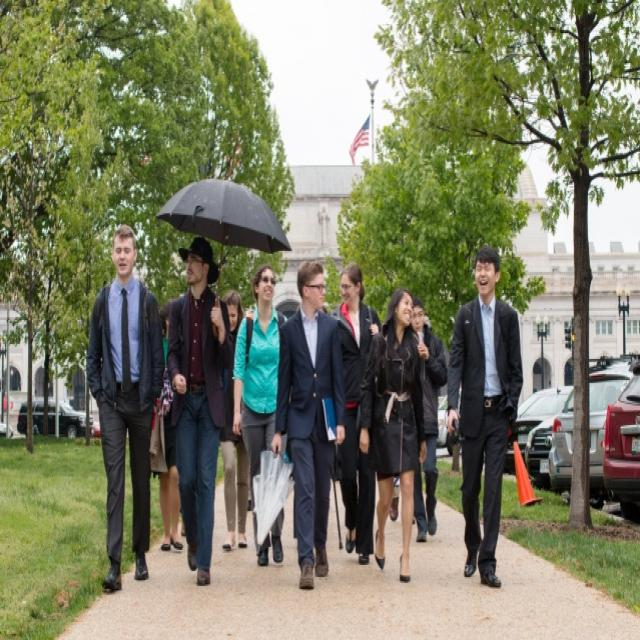body: (81, 216, 165, 592), (443, 240, 523, 586), (162, 227, 236, 589), (270, 258, 346, 589), (356, 284, 426, 583), (230, 261, 290, 571), (323, 254, 382, 560), (408, 298, 449, 542), (218, 287, 252, 554), (152, 300, 185, 553), (1, 388, 15, 438)
